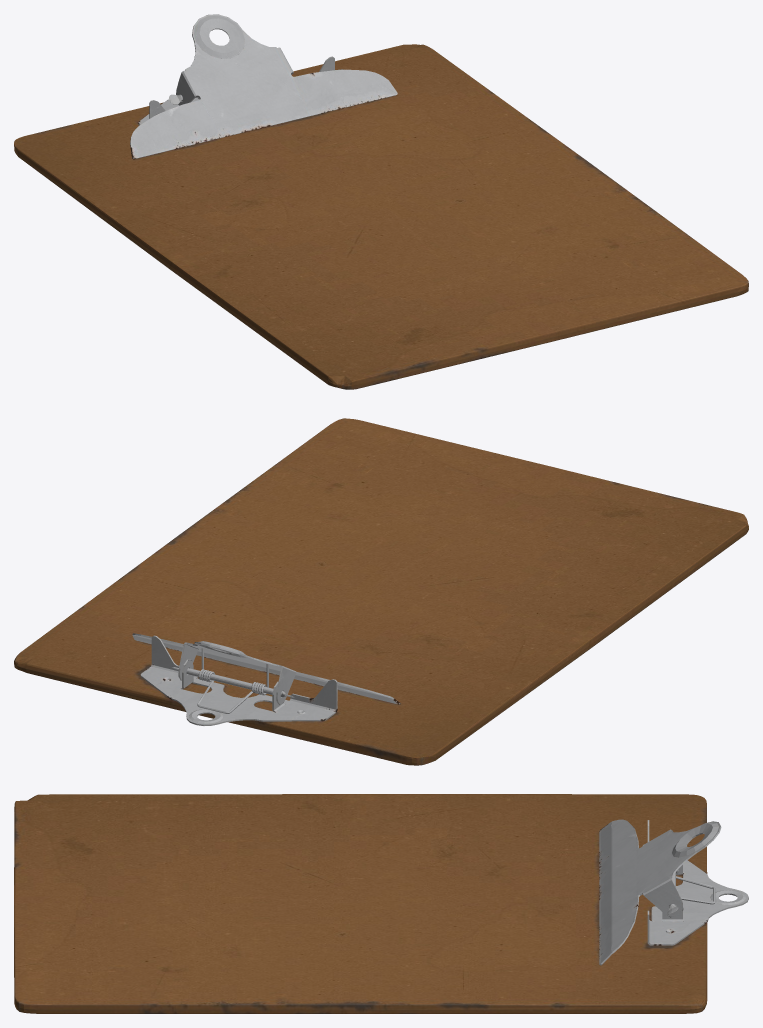
The model's file is Clipboard.obj.
3 renders of one model, top to bottom at view 1: azimuth 30°, elevation 25°; view 2: azimuth 150°, elevation 25°; view 3: azimuth 270°, elevation 25°, orthographic. The views are drawn at different scales.
Visible parts, largest first — view 1: clipboard_a; view 2: clipboard_a; view 3: clipboard_a.
Part boxes in pixels (<box>): clipboard_a: <box>14,14,748,389</box>; clipboard_a: <box>14,418,748,765</box>; clipboard_a: <box>14,794,748,1013</box>.
Bounding box in the file's own units: 0.2286 × 0.042 × 0.3366.
1 material, 1 textured.
